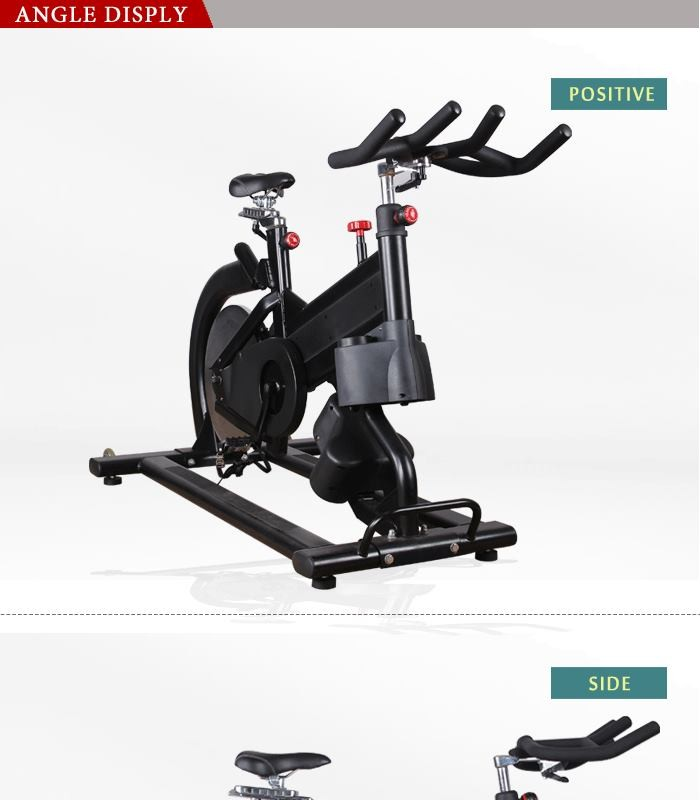gym_bike: (84, 130, 591, 605)
